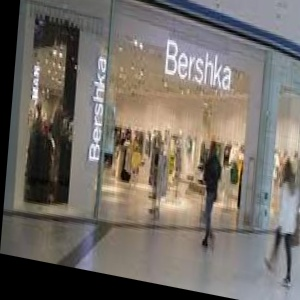bershka: (160, 0, 300, 97), (66, 0, 154, 110)
